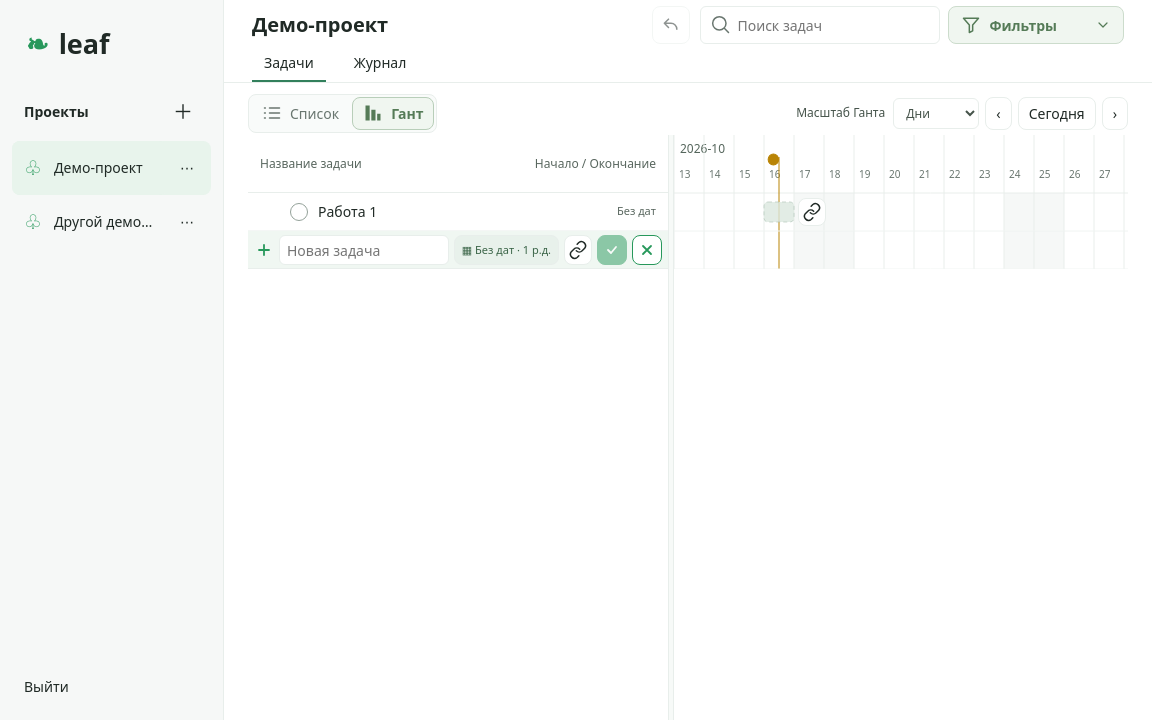
saves settings atomically and closes only the clean dialog
The width and height of the screenshot is (1152, 720).
Expected: the heading "Демо-проект" is shown, [252,11,388,38]
Click the button named "Действия проекта" at (187, 168), box [167,149,207,186]
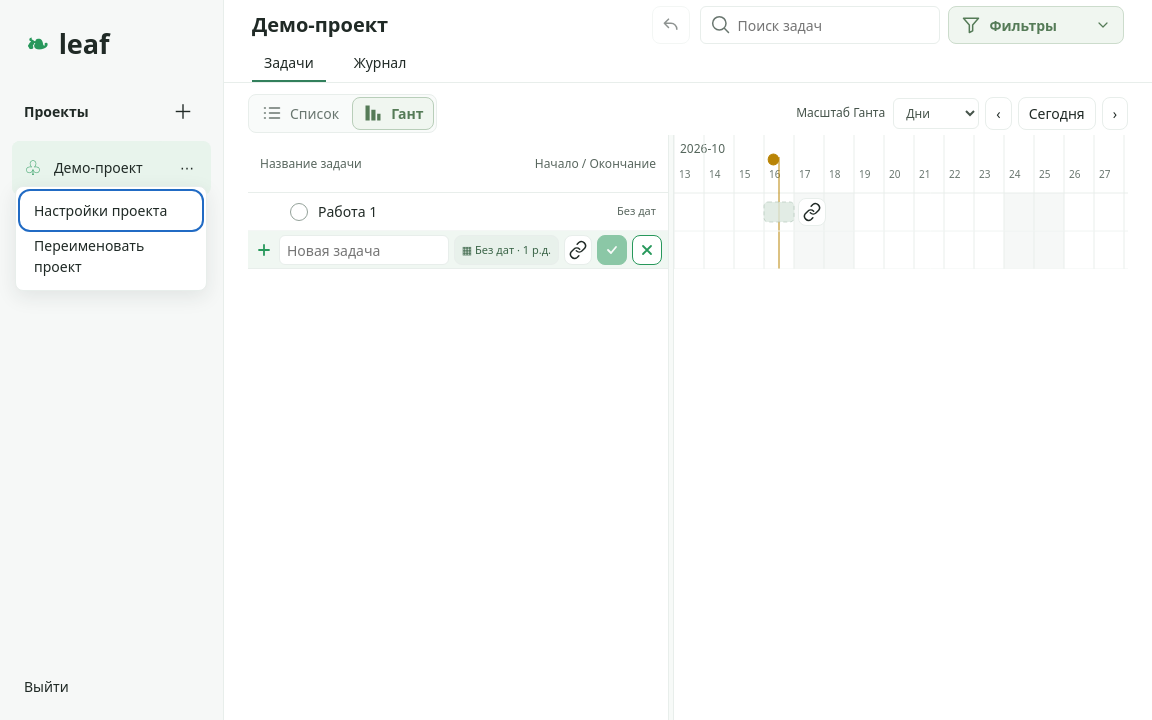
Click the button "Настройки проекта" at (111, 210), box [22,193,200,228]
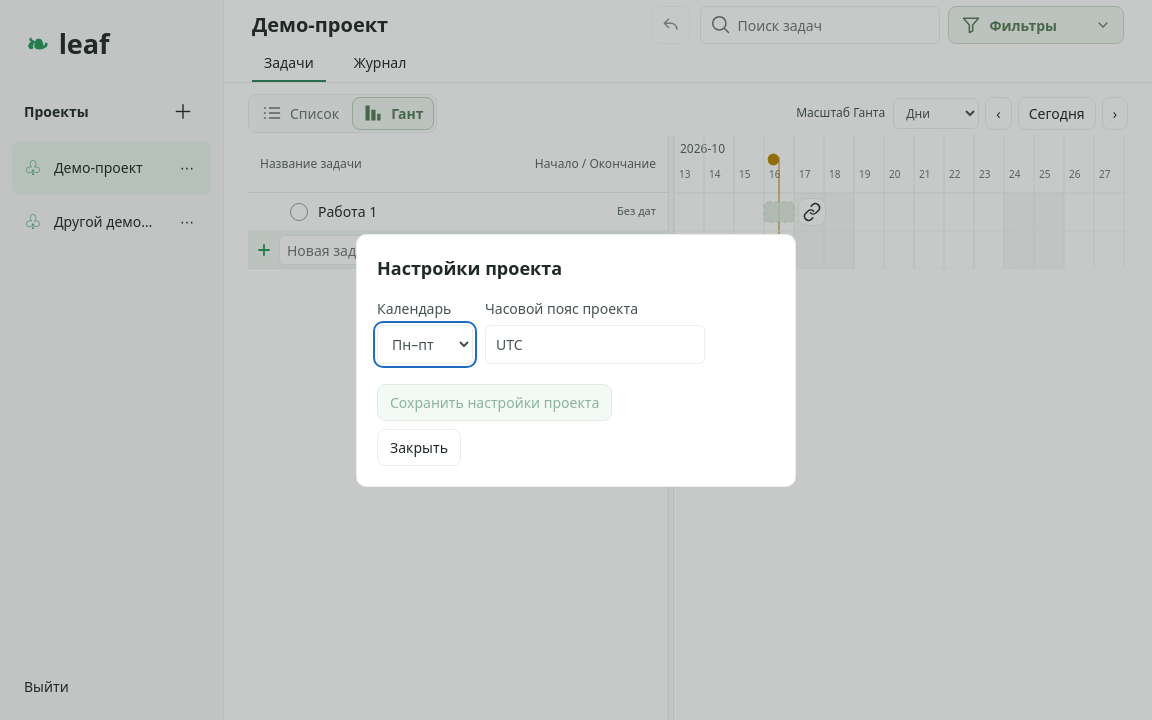
Select "Все дни" in the dropdown labelled "Календарь" at (425, 344), box [377,324,473,364]
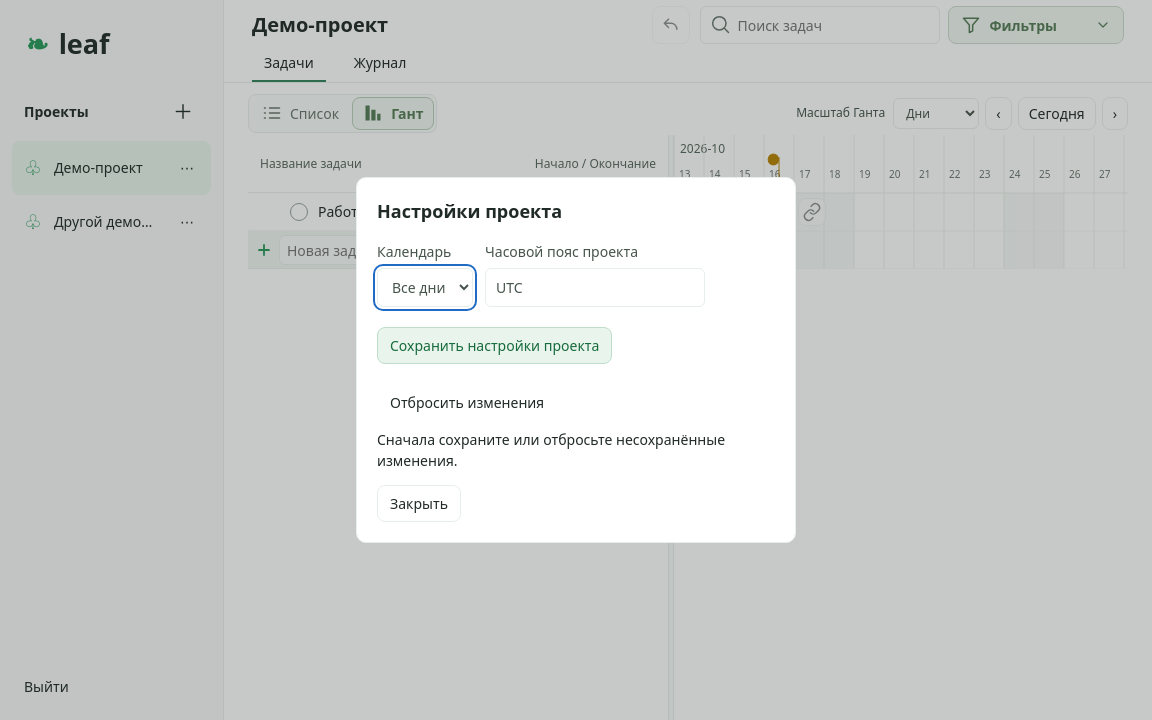
Click the button "Сохранить настройки проекта" at (495, 346), box [377,327,612,364]
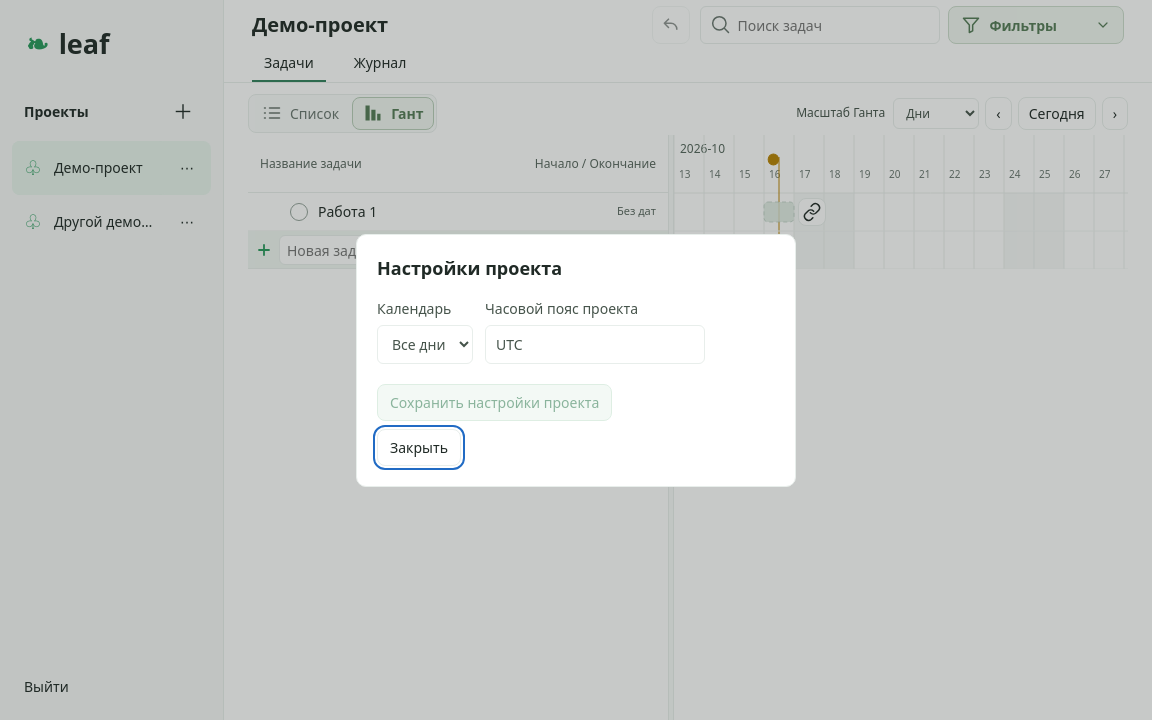
Expected: the button "Сохранить настройки проекта" is disabled, [377,384,612,420]
Press Escape
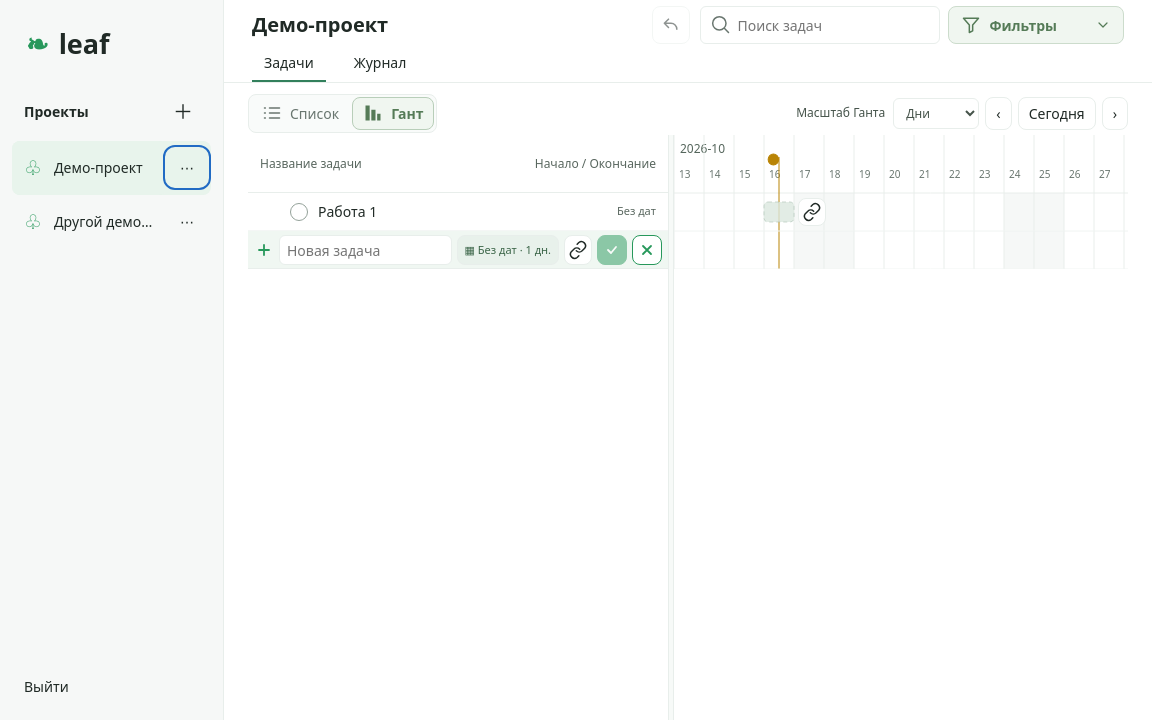
Expected: the dialog is gone
